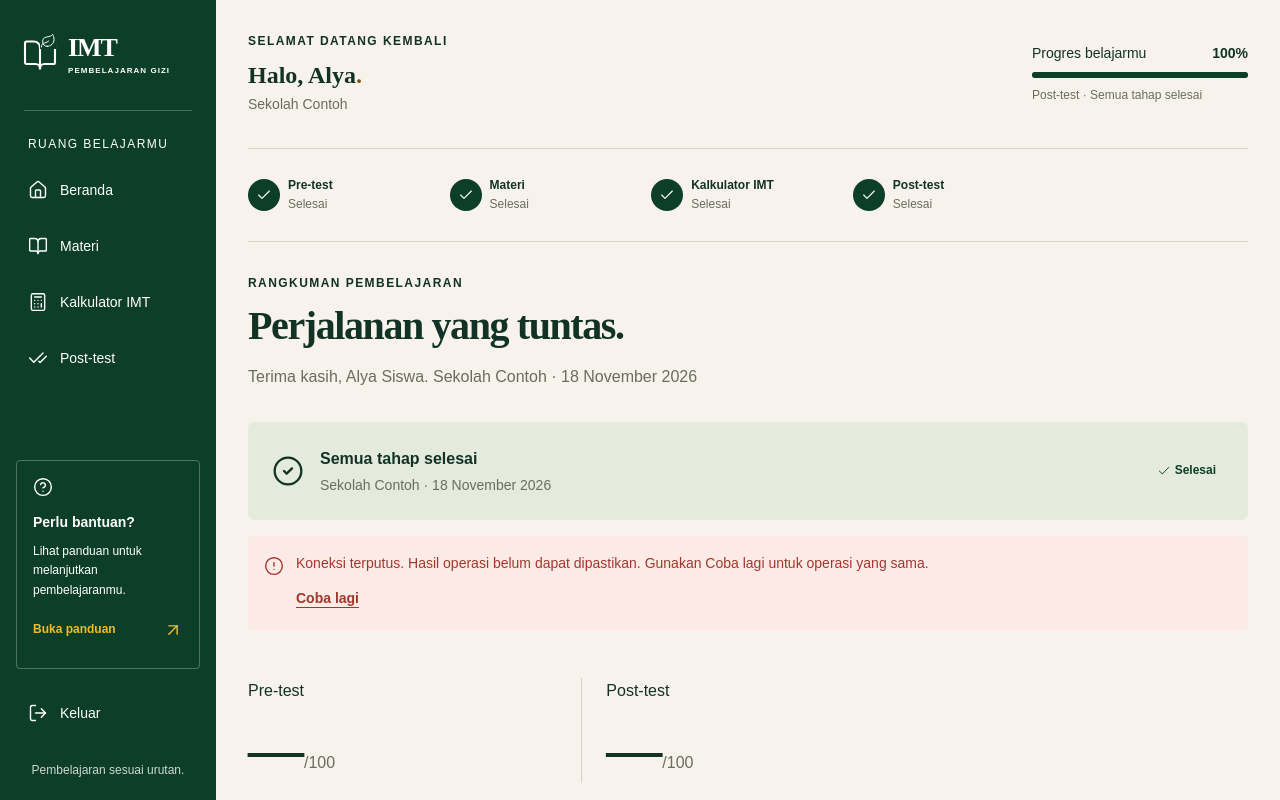
it: student guidance points to per-lesson quizzes and the real calculator/post-test sequence
expect the heading "Perjalanan yang tuntas." is shown: met, box left=248, top=303, right=624, bottom=348
Click the button "Buka panduan".
click(108, 630)  # box left=33, top=608, right=183, bottom=652
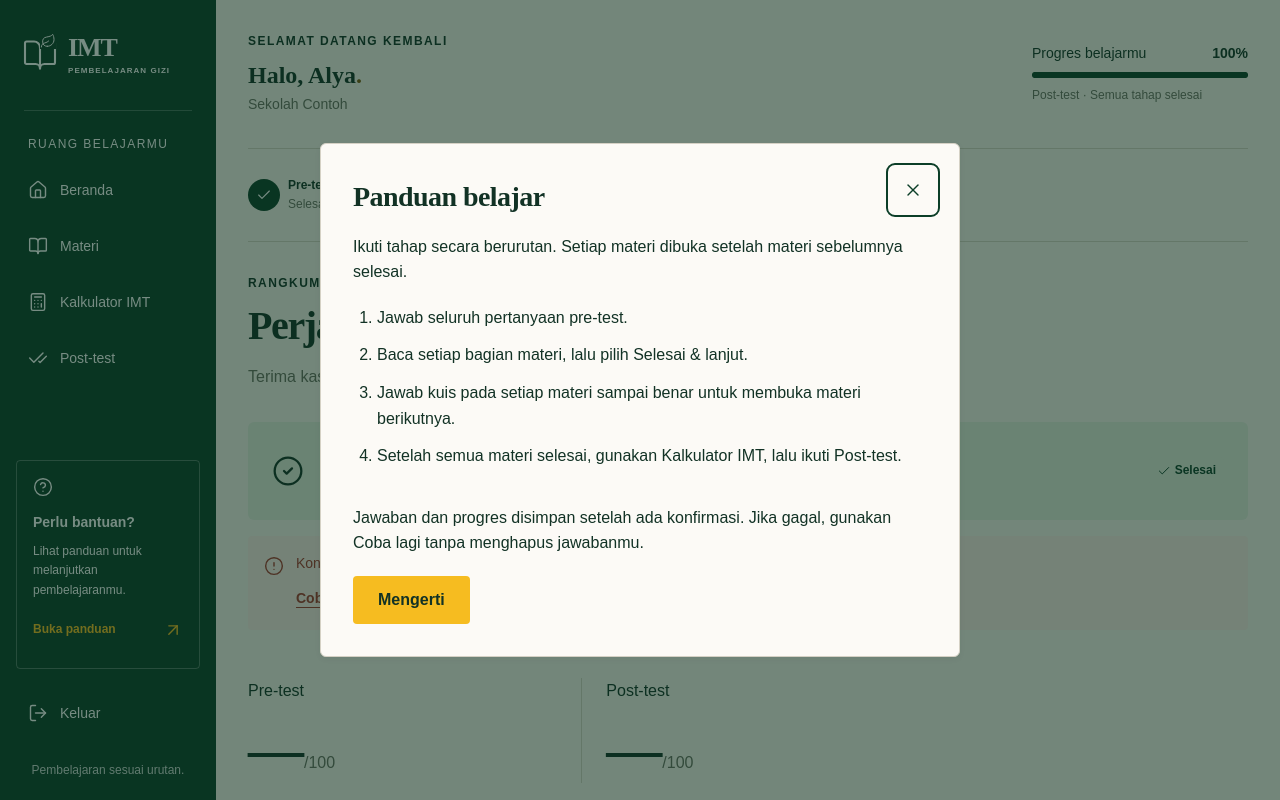
expect the list item "kuis pada setiap materi" is shown: met, box left=377, top=384, right=861, bottom=427
expect the 4th list item is shown: met, box left=377, top=447, right=902, bottom=464
